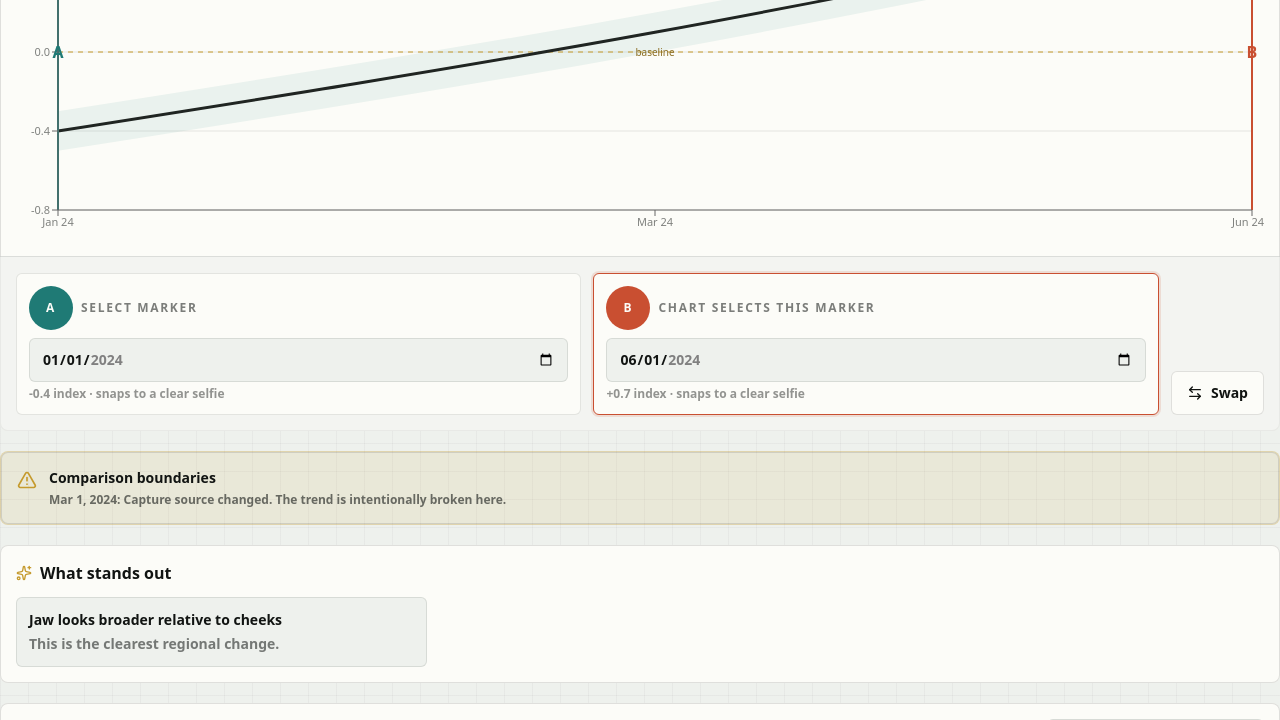
FaceChange › snaps an entered date to the nearest qualifying observation
(page scrolled)
Type "2024-02-20" into the date field named "Period A" at (299, 360), box [29,338,568,382]
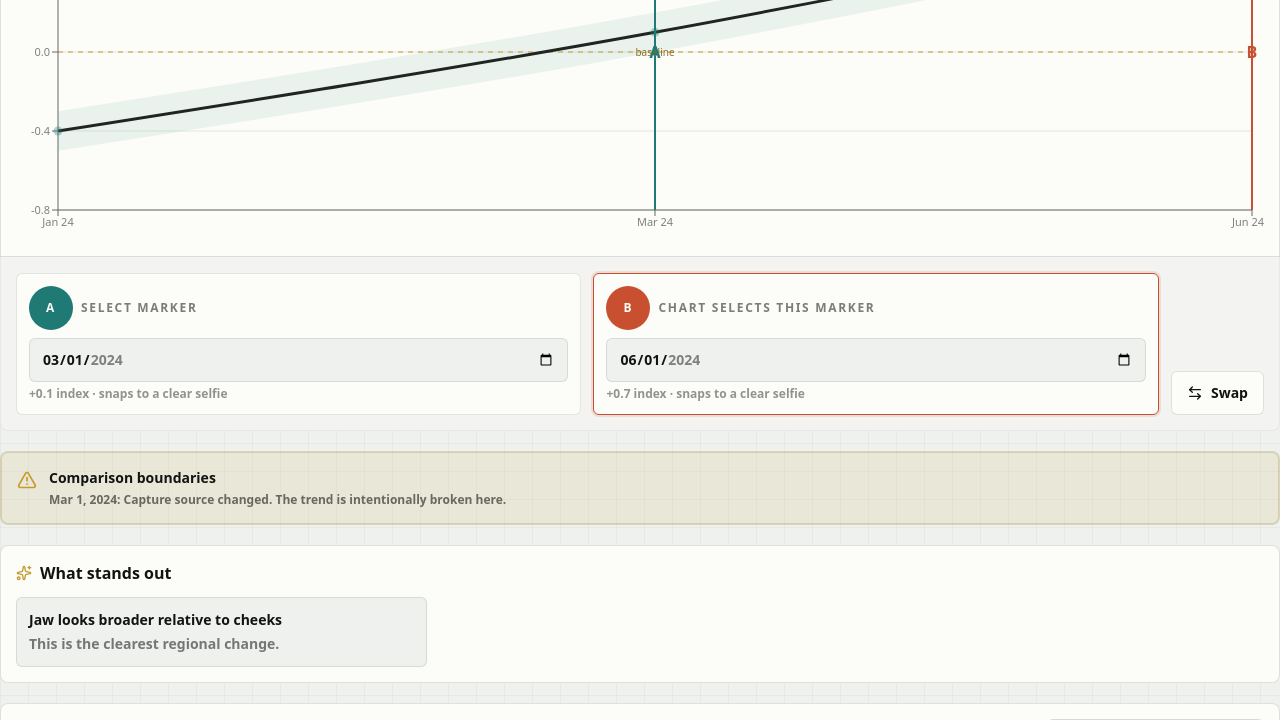
Result: the date field named "Period A" holds "2024-03-01" at [29,338,568,382]
